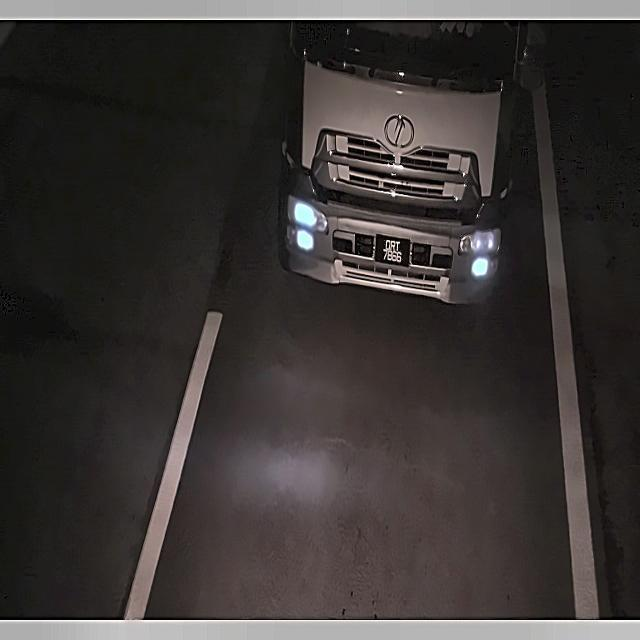car: (370, 228, 416, 269)
